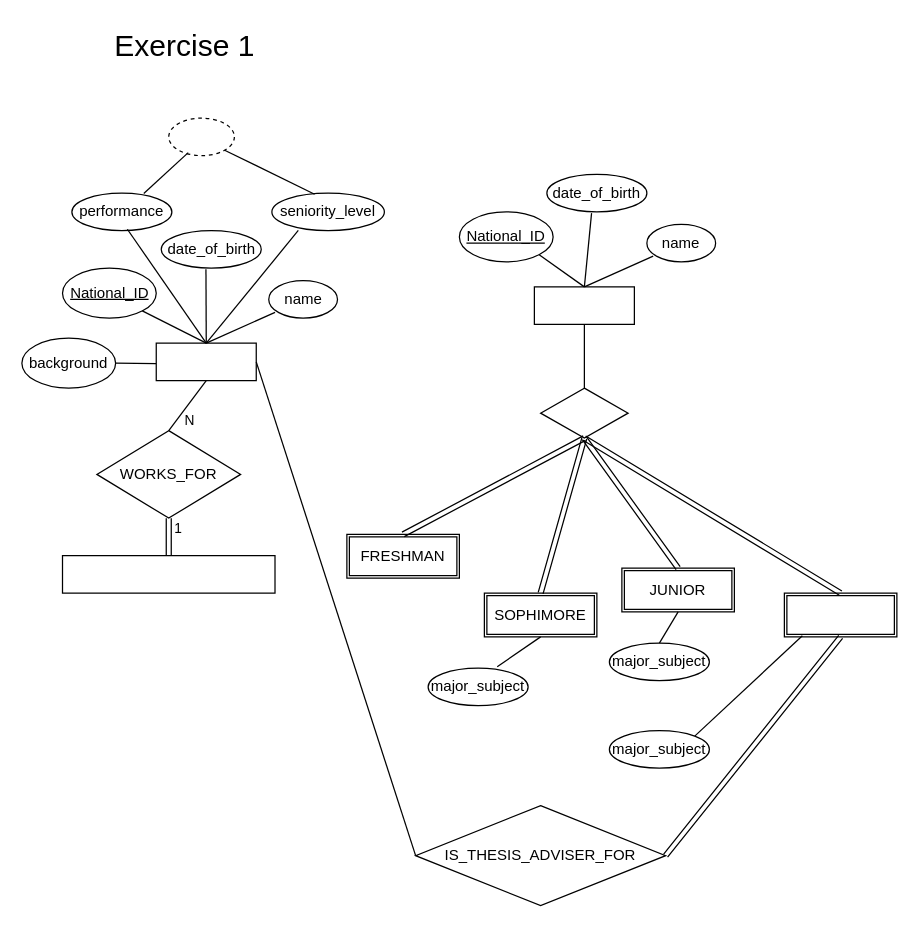
The diagram is 919 pixels wide and 928 high, and some of its shapes have lost their labels. The box of each missing label's shape, as (x1, y1, x2, y2) in pixels:
COMPANY_DEPARTMENT: (61, 554, 275, 593)
EMPLOYEE: (155, 342, 256, 381)
IS_A: (539, 387, 628, 438)
salary: (168, 117, 234, 156)
SENIOR: (783, 592, 897, 637)
STUDENT: (533, 286, 634, 324)
